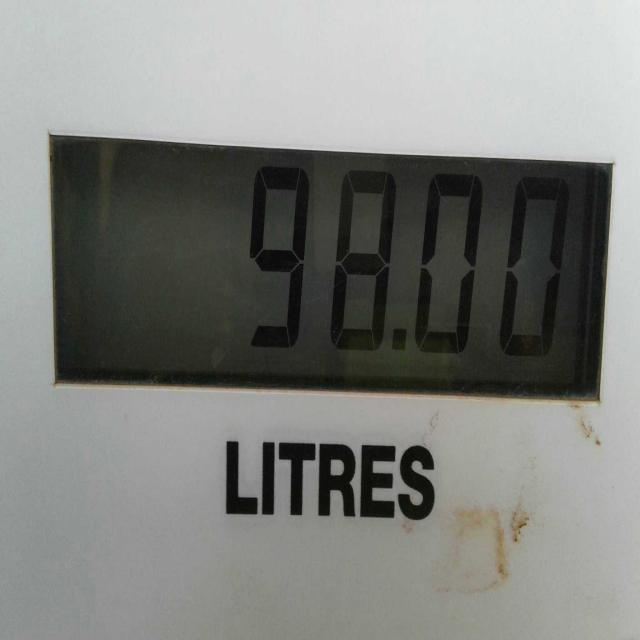.: (388, 316, 408, 368)
0: (408, 164, 491, 368), (498, 160, 580, 363)
8: (322, 154, 396, 368)
9: (238, 160, 316, 361)
